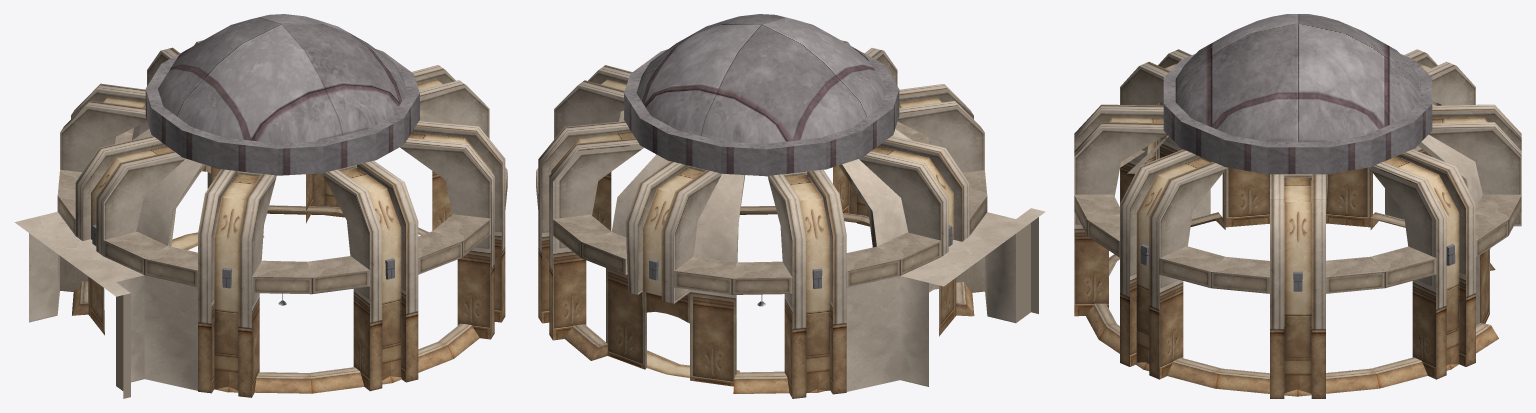
Rendered from Cor1_bldg_Youngling_Room.fbx.
The picture shows the model from 3 angles, left to right: view 1: azimuth 30°, elevation 25°; view 2: azimuth 150°, elevation 25°; view 3: azimuth 270°, elevation 25°; orthographic projection.
Parts seen in each view (by area): view 1: Cor1_bldg_Youngling_Room_msh, roof, polymsh1216, polymsh1206; view 2: Cor1_bldg_Youngling_Room_msh, roof, polymsh1216, floor1, polymsh1206; view 3: Cor1_bldg_Youngling_Room_msh, roof, polymsh1216, polymsh1206.
Part boxes in pixels (box(x1,y1,x2,y2)): Cor1_bldg_Youngling_Room_msh: box(60, 40, 505, 397); roof: box(145, 14, 419, 175); polymsh1216: box(14, 110, 507, 398); polymsh1206: box(92, 224, 394, 288); Cor1_bldg_Youngling_Room_msh: box(538, 40, 984, 398); roof: box(624, 14, 899, 176); polymsh1216: box(536, 110, 1045, 393); floor1: box(647, 350, 739, 378); polymsh1206: box(649, 225, 952, 288); Cor1_bldg_Youngling_Room_msh: box(1074, 49, 1521, 398); roof: box(1163, 14, 1432, 174); polymsh1216: box(1074, 138, 1521, 396); polymsh1206: box(1140, 244, 1455, 291).
Size of what is drawn, in the model's own units: 30.83 by 19.71 by 28.48.
